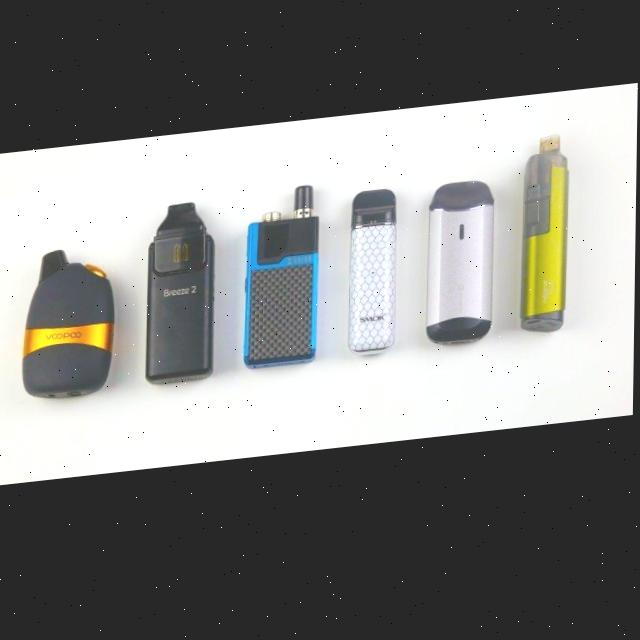vape: (245, 190, 322, 378), (24, 246, 116, 403), (147, 205, 218, 391), (428, 190, 497, 360), (522, 147, 571, 350), (348, 197, 399, 367)
